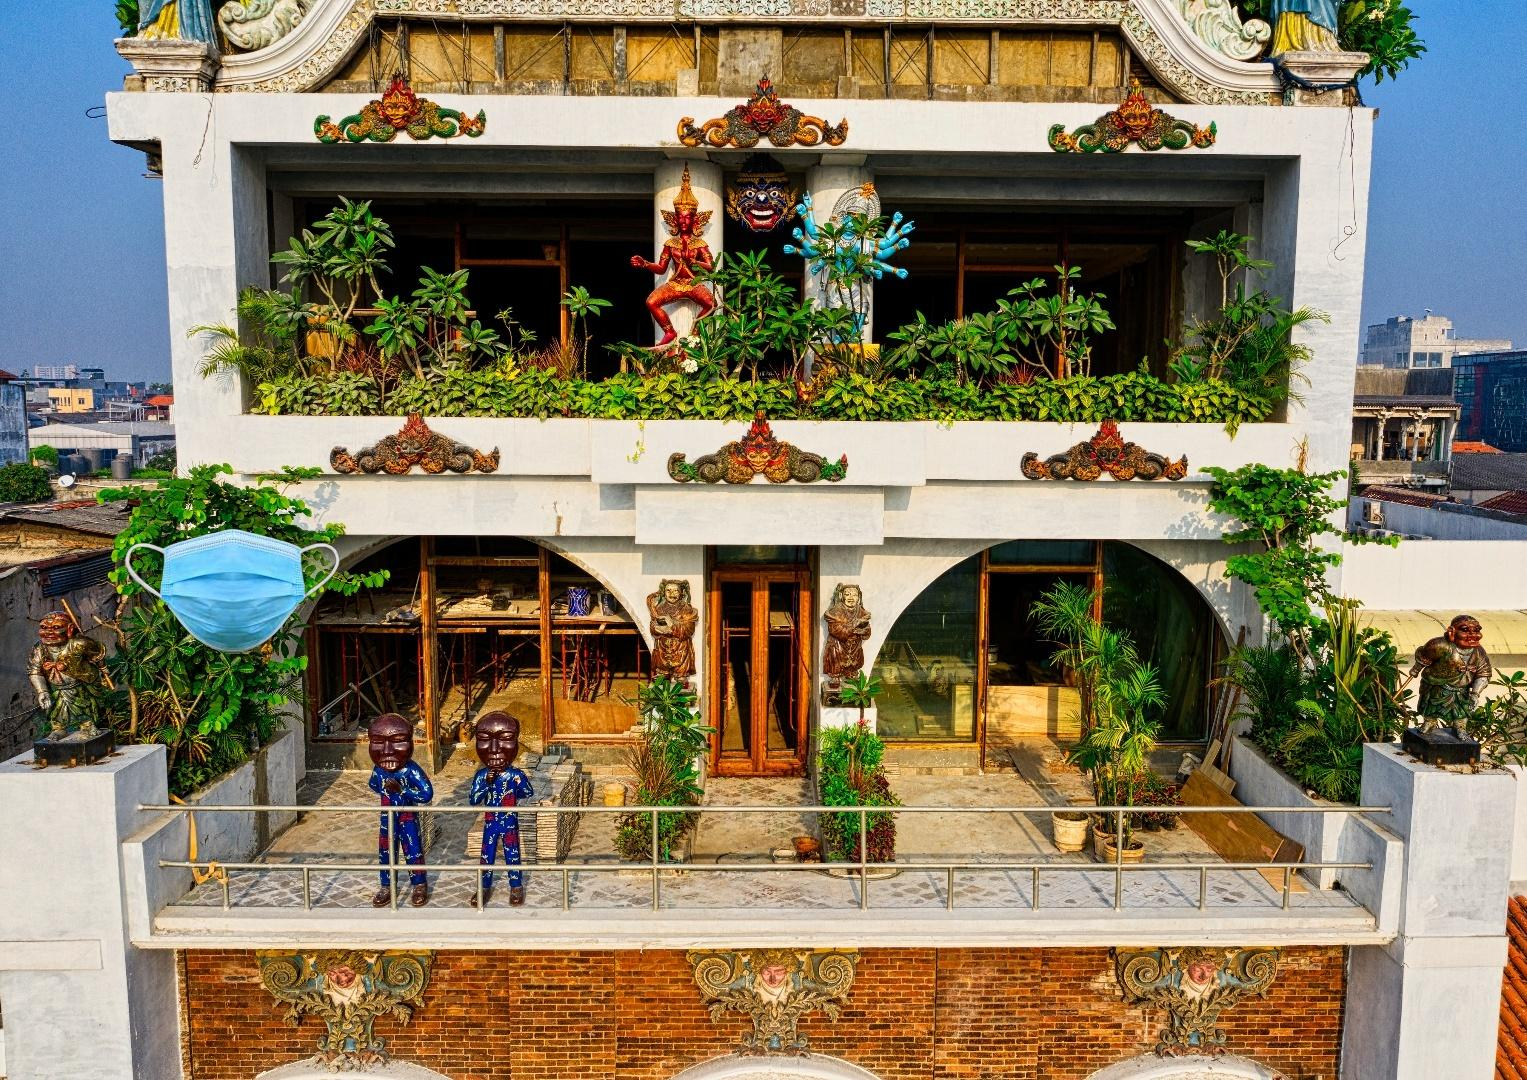trash: (122, 526, 343, 655)
